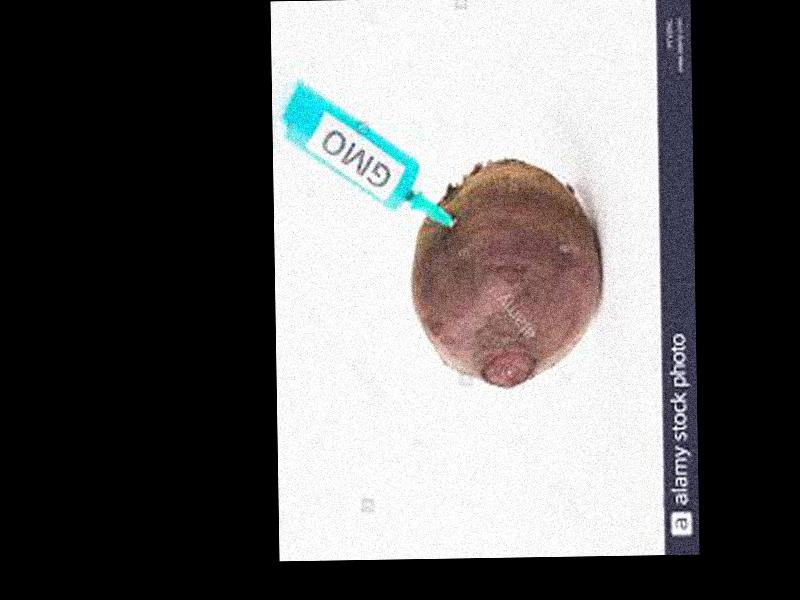Beet: (408, 161, 604, 388)
